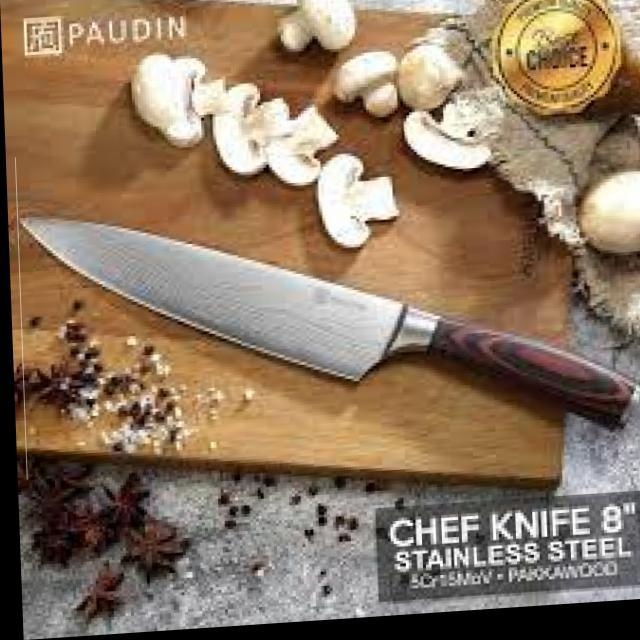knife: (15, 214, 632, 431)
